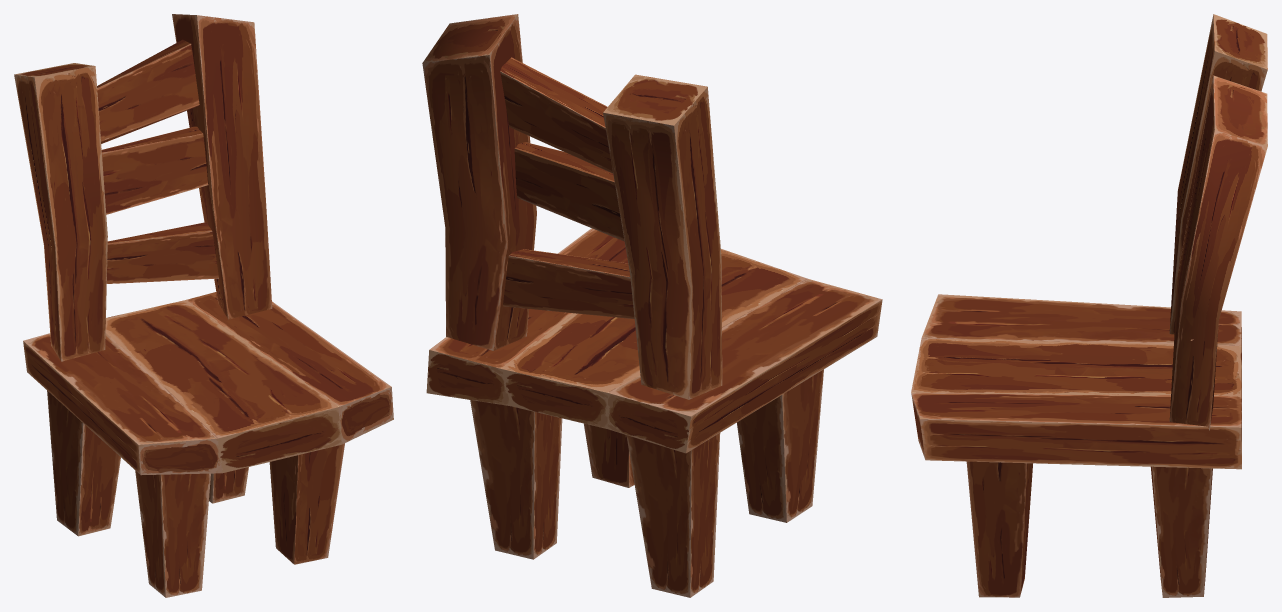
The model's file is SM_PROP_chair_03.fbx.
3 renders of one model, left to right at view 1: azimuth 30°, elevation 25°; view 2: azimuth 150°, elevation 25°; view 3: azimuth 270°, elevation 25°, orthographic. The views are drawn at different scales.
Parts seen in each view (by area): view 1: SM_PROP_chair_03; view 2: SM_PROP_chair_03; view 3: SM_PROP_chair_03.
Boxes of the visible parts, left/top/right/bottom form: SM_PROP_chair_03: left=14, top=14, right=393, bottom=597; SM_PROP_chair_03: left=422, top=14, right=882, bottom=597; SM_PROP_chair_03: left=911, top=14, right=1267, bottom=597.
Bounding box in the file's own units: 54.05 × 96.78 × 61.4.
